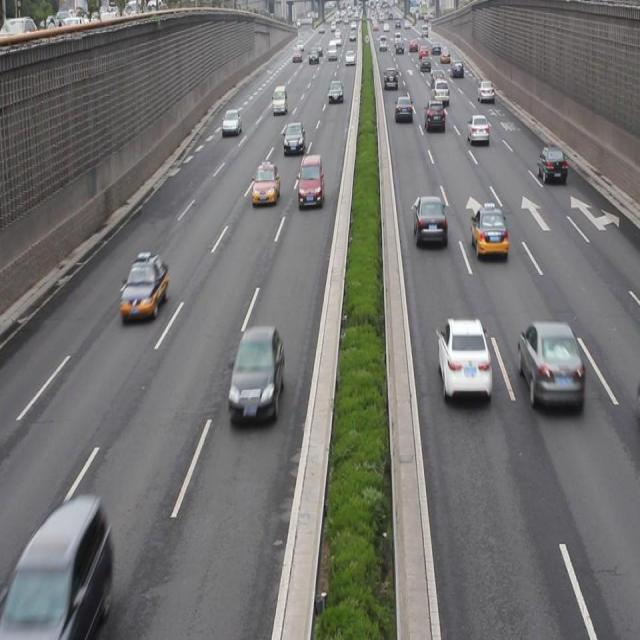car: (0, 496, 109, 640), (518, 319, 584, 404), (227, 326, 284, 421), (436, 319, 491, 402), (121, 255, 168, 322), (470, 203, 507, 260), (412, 193, 448, 249), (251, 160, 280, 206), (535, 144, 566, 184), (466, 112, 490, 146), (282, 120, 304, 157), (424, 98, 445, 134), (222, 107, 242, 134), (393, 96, 412, 124)
truck: (296, 153, 324, 207)
